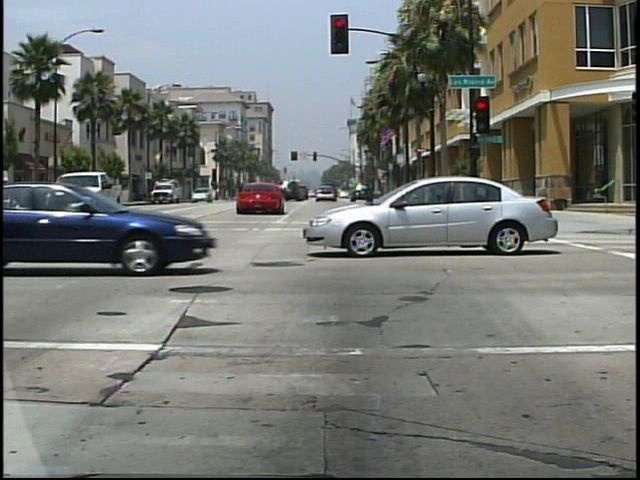person: (1, 173, 21, 228)
